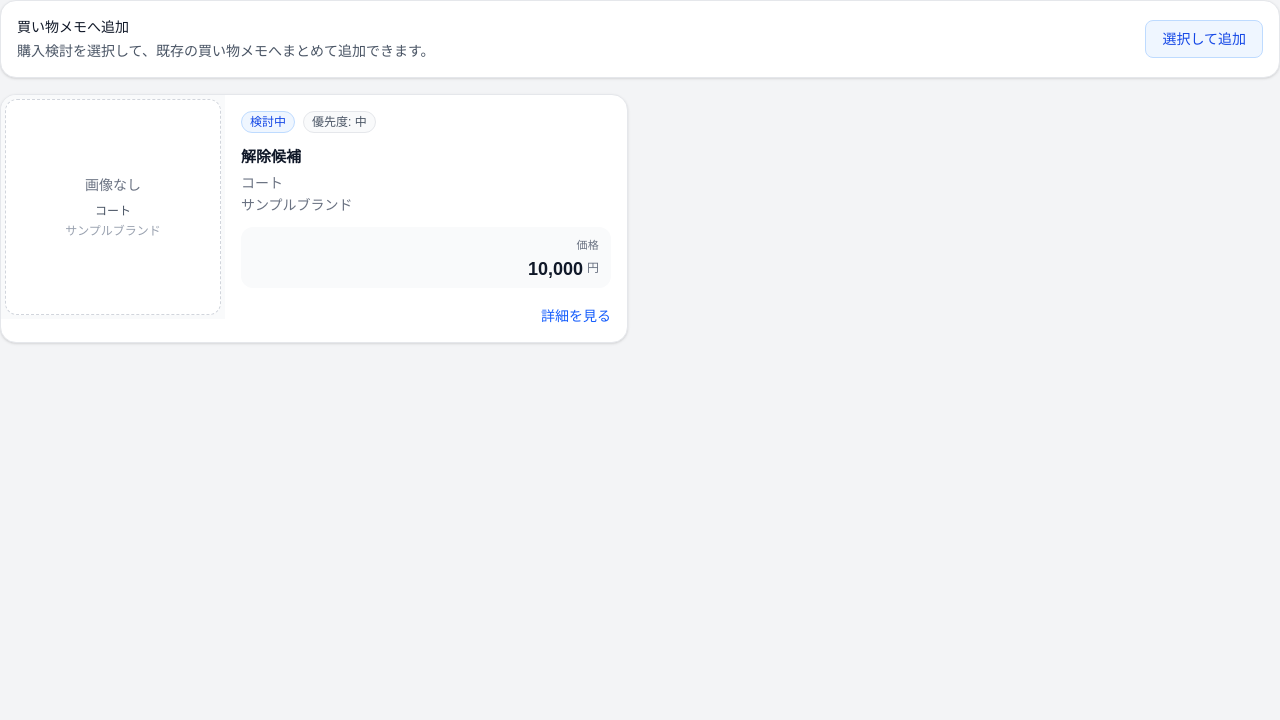
Test: PurchaseCandidateShoppingMemoBulkAdd › 解除予定がある場合は DELETE API を呼ぶ
The image size is (1280, 720).
Step 1. Click the button "選択して追加" → [1204, 39], box [1145,20,1263,58]
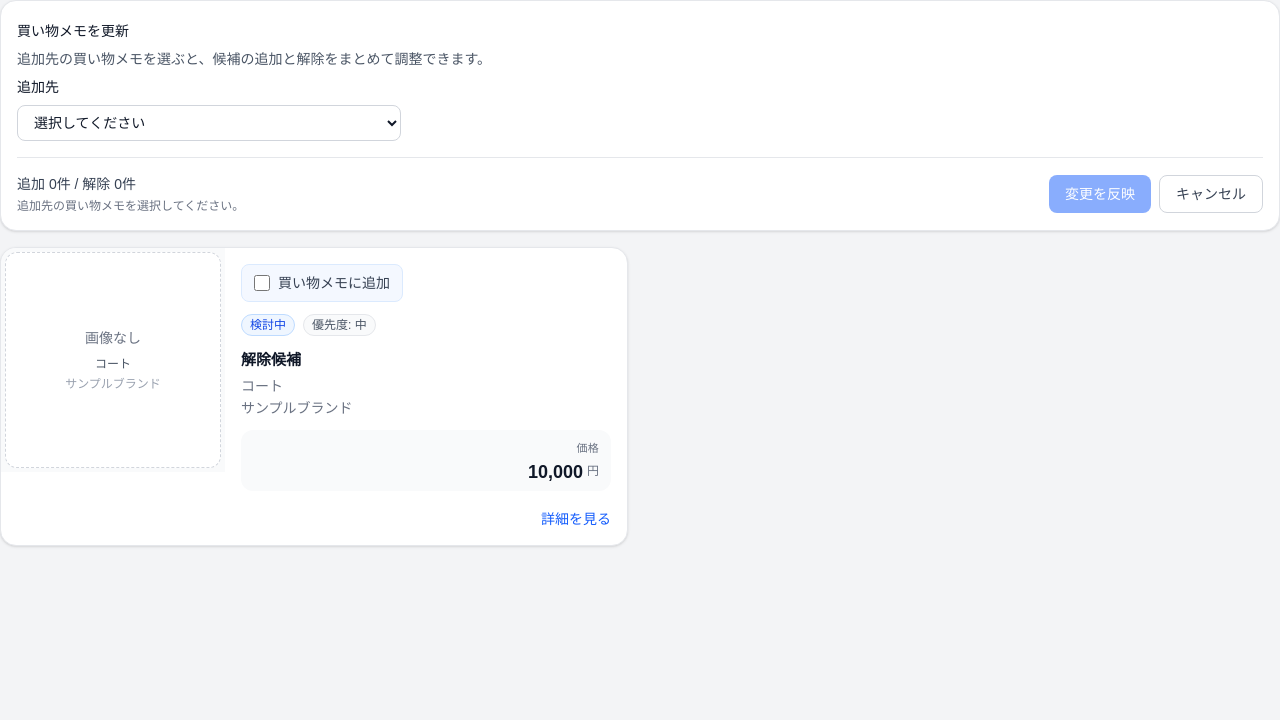
Step 2. Select "春夏物" in the dropdown labelled "追加先" → [209, 123], box [17,105,401,141]
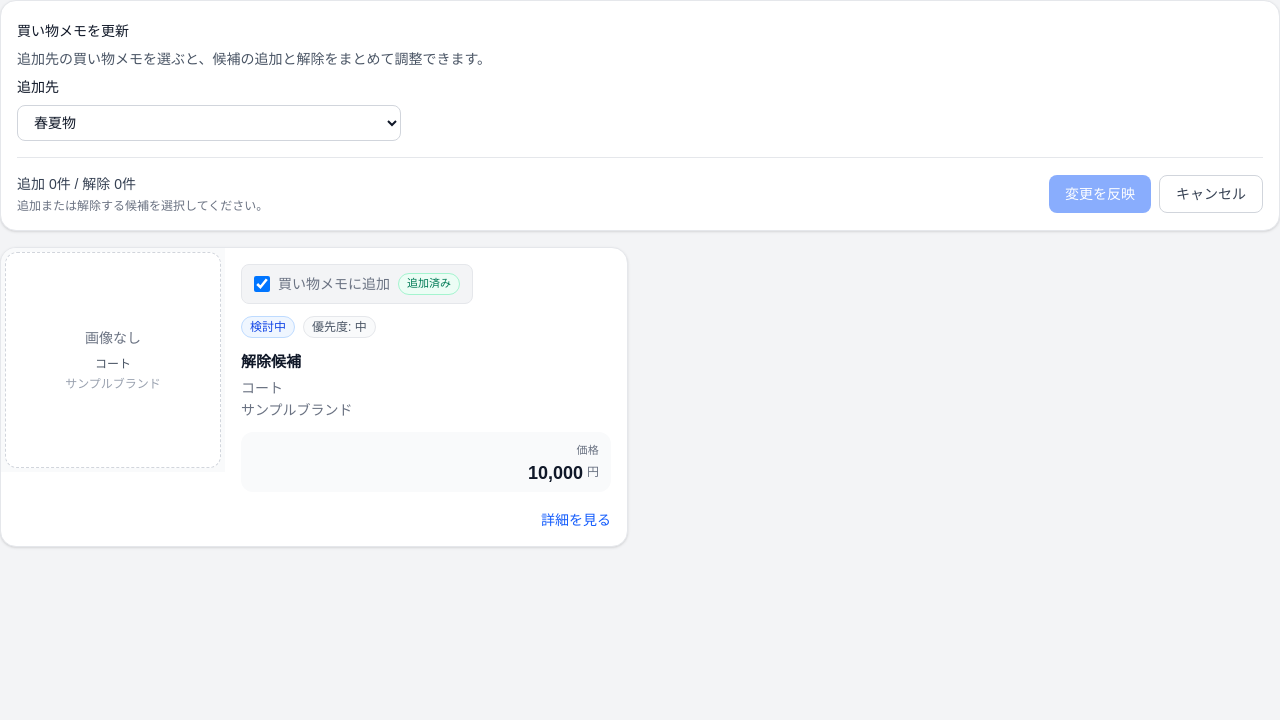
Step 3. Click the checkbox with test id "purchase-candidate-checkbox-61" → [262, 284], box [254,276,270,292]
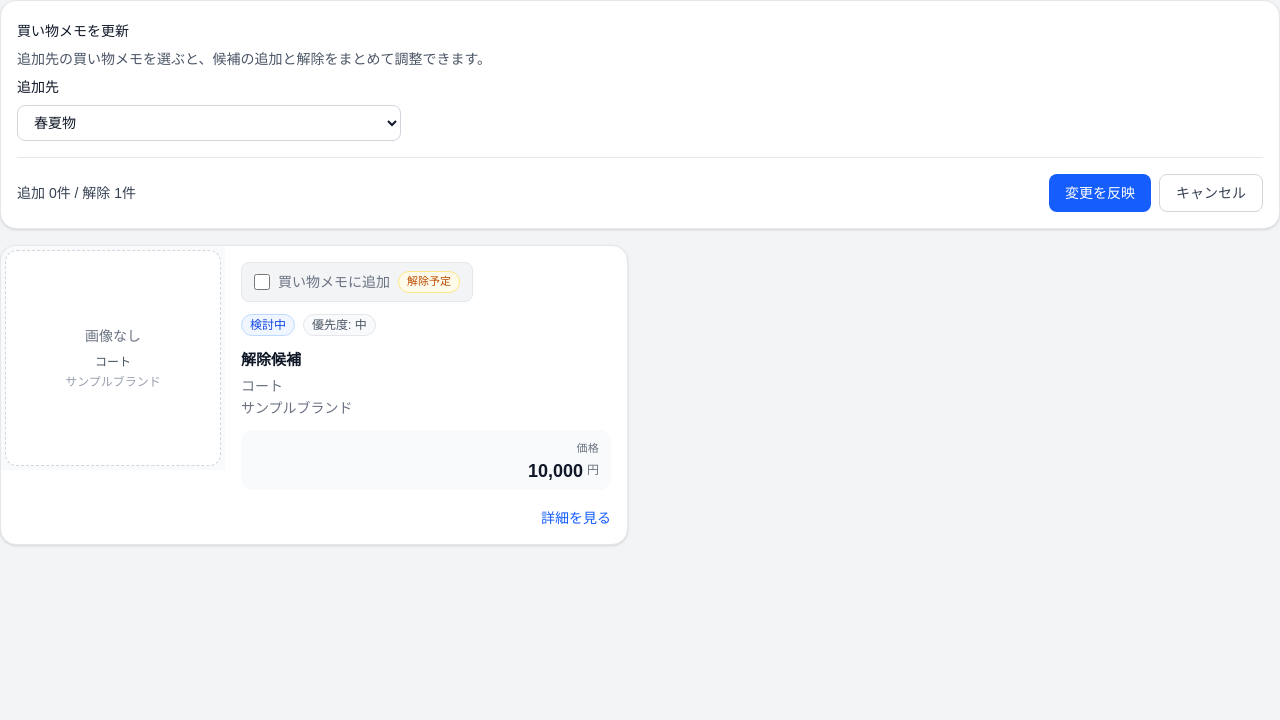
Step 4. Click the button "変更を反映" → [1100, 193], box [1049,174,1151,212]
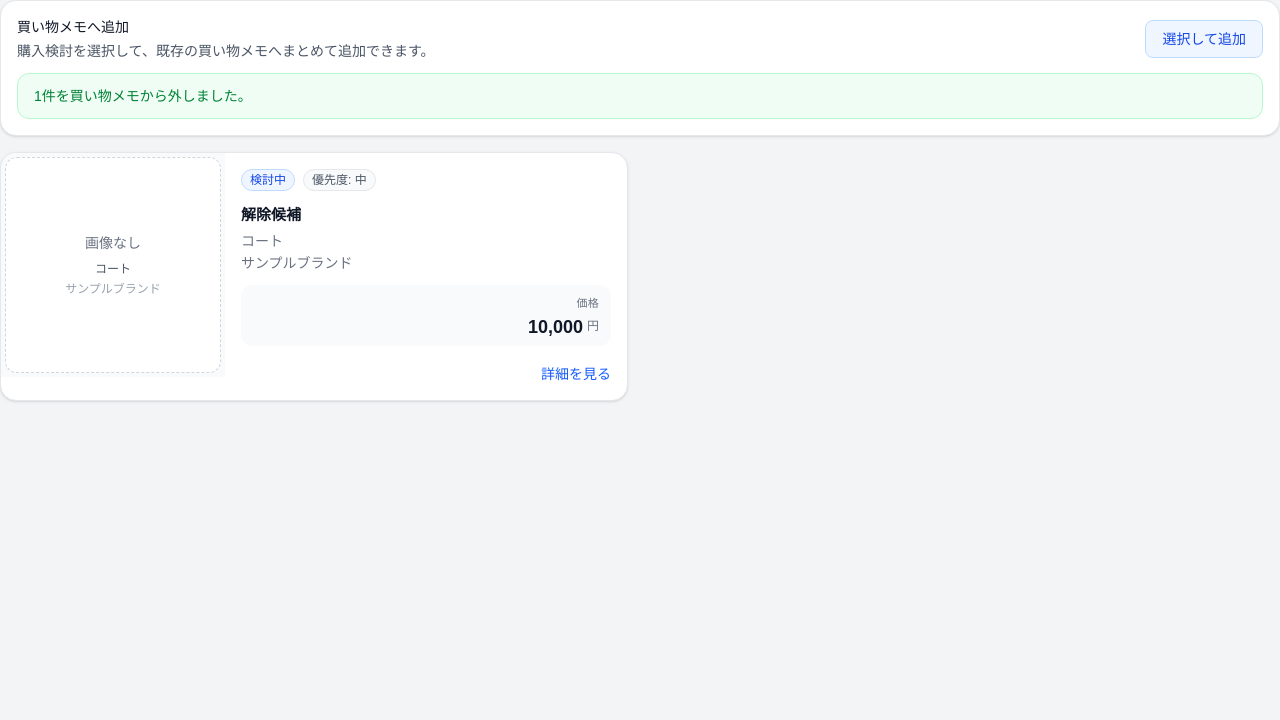
Expected: the text "1件を買い物メモから外しました。" is shown, [17,73,1263,119]
